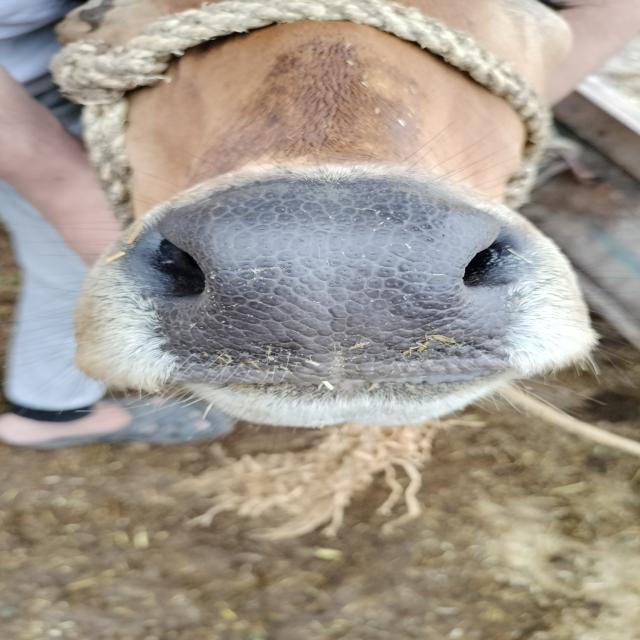muzzles: (98, 176, 569, 401)
